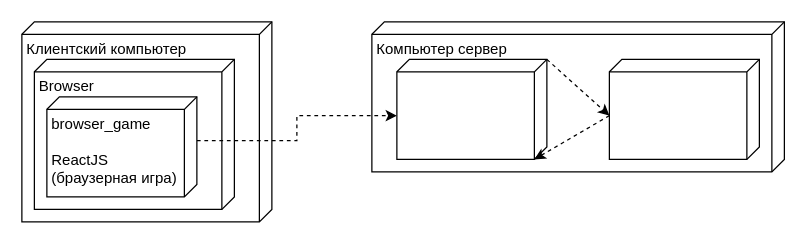
This 806x244 diagram has some shape labels left out. The centre of each missing label's shape, as x and y in pixels:
game_server NodeJS (сервер): the point at 471,108
mysql_server docker-compose (MySQL): the point at 683,108
